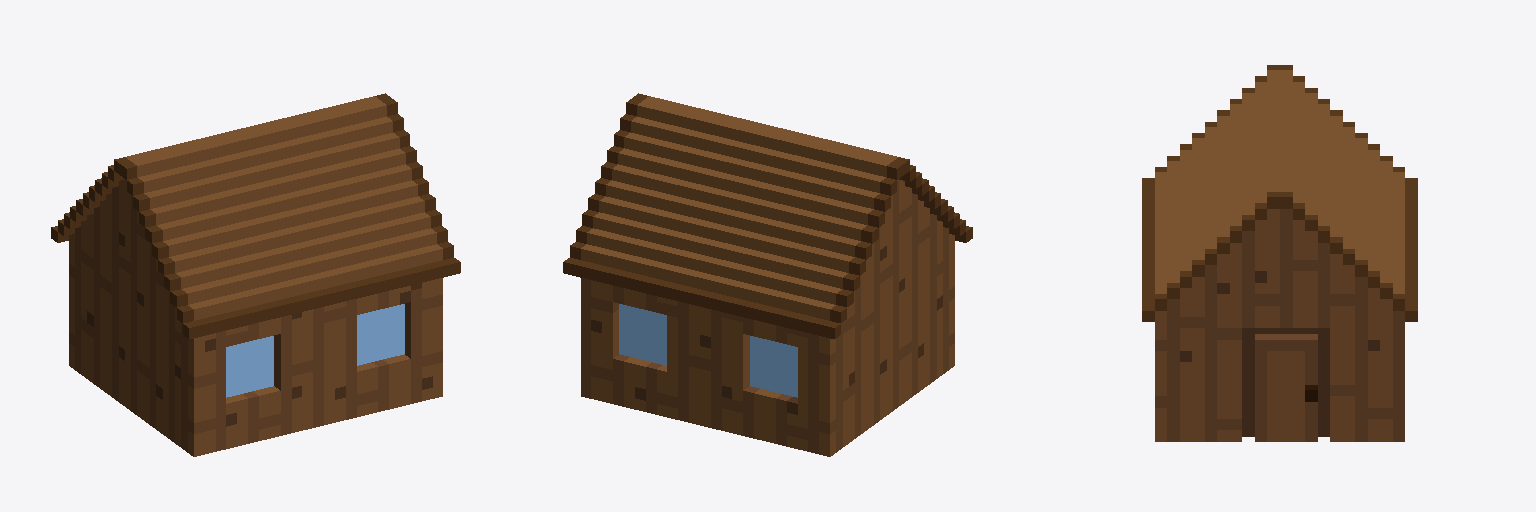
3 views of the same model, side by side, from view 1: azimuth 30°, elevation 25°; view 2: azimuth 150°, elevation 25°; view 3: azimuth 270°, elevation 25° (orthographic).
Visible parts, largest first — view 1: object 1; view 2: object 1; view 3: object 1.
Boxes of the visible parts, box(x1,y1,x2,y2) form: object 1: box(51, 93, 460, 456); object 1: box(563, 93, 972, 456); object 1: box(1142, 65, 1417, 441).
Size of the model in its own units: 2.5 by 2.2 by 2.2.
Materials: 1 (1 with a texture image).